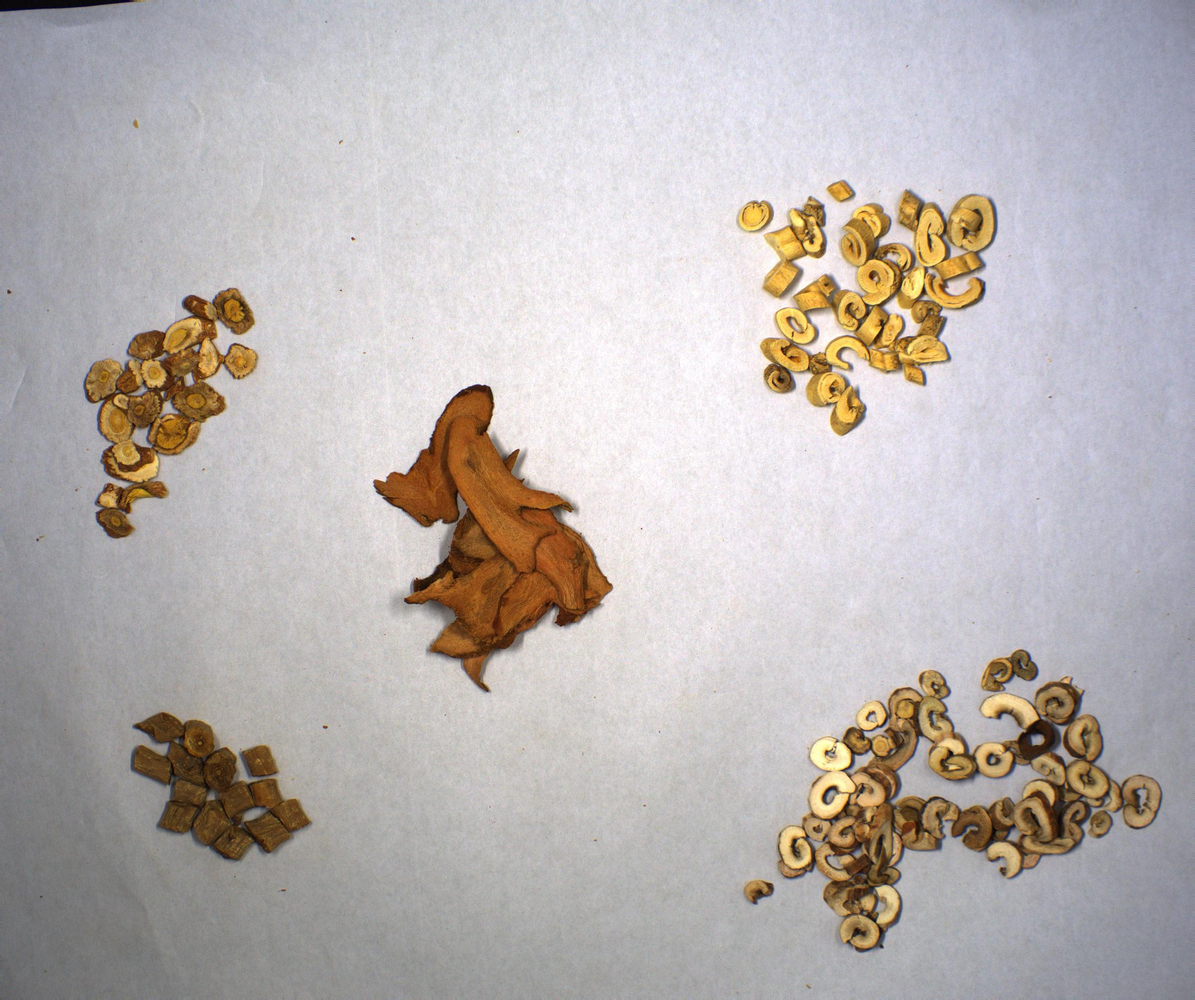baixianpi: (735, 175, 998, 441)
banlangen: (77, 284, 267, 545)
gaoliangjiang: (376, 383, 618, 692)
mudanpi: (743, 647, 1170, 953)
niuxi: (127, 710, 316, 864)
